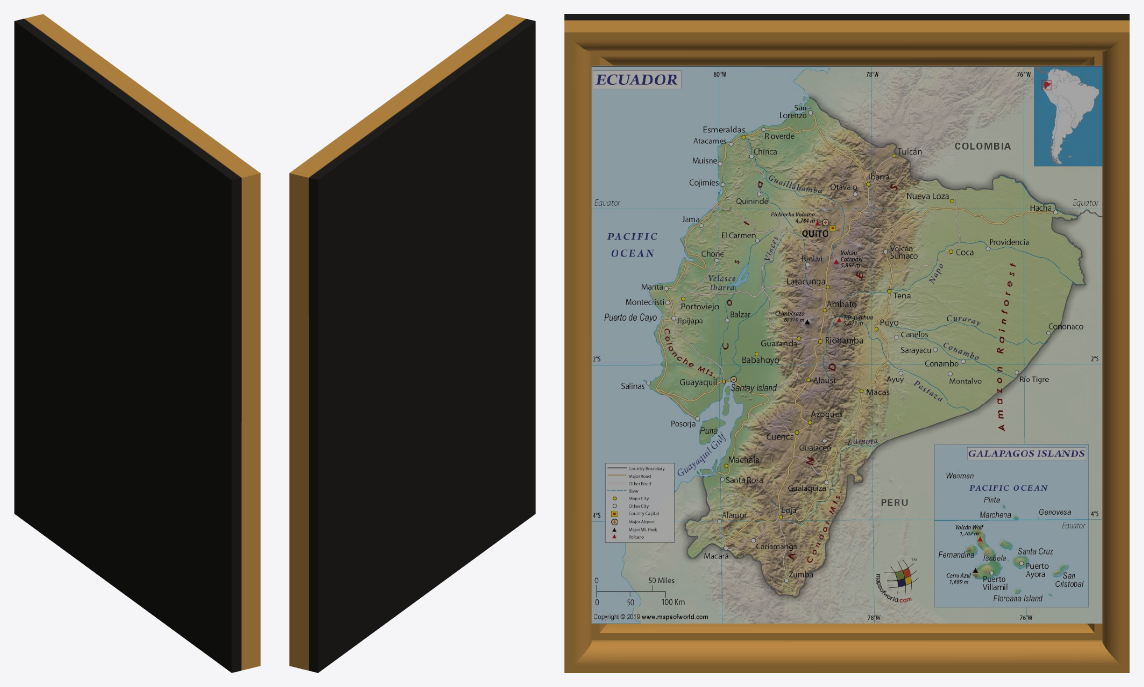
3 renders of one model, left to right at view 1: azimuth 30°, elevation 25°; view 2: azimuth 150°, elevation 25°; view 3: azimuth 270°, elevation 25°, orthographic. The views are drawn at different scales.
Parts seen in each view (by area): view 1: frame.001_3.002, back panel.001_2.002; view 2: frame.001_3.002, back panel.001_2.002; view 3: frame.001_3.002, back panel.001_2.002.
Boxes of the visible parts, x1,y1,x2,y2 form: frame.001_3.002: (14,18,241,672); back panel.001_2.002: (24,14,260,670); frame.001_3.002: (308,19,535,672); back panel.001_2.002: (289,14,525,670); frame.001_3.002: (564,14,1129,623); back panel.001_2.002: (564,20,1129,672).
Size of the model in its own units: 1.05 by 17.11 by 13.69.
Materials: 3 (1 with a texture image).
